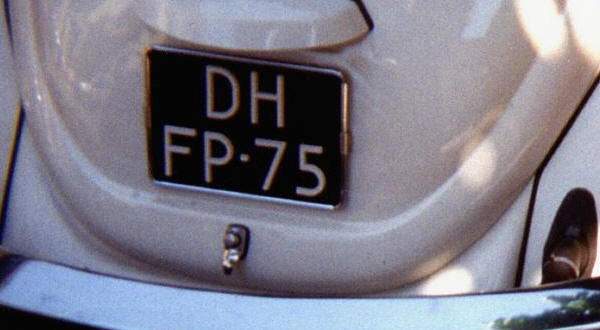license_plate: (145, 46, 349, 209)
